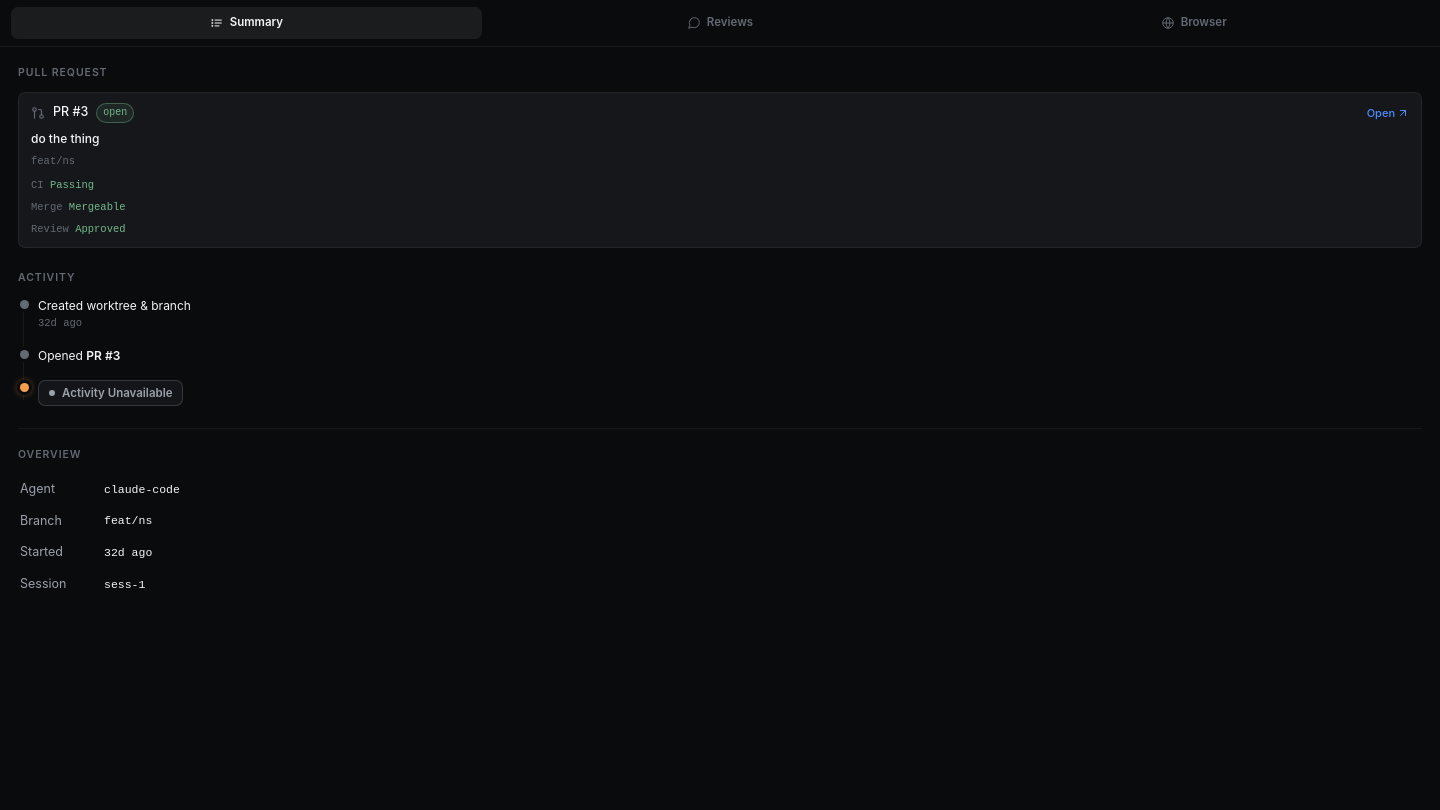
Scenario: SessionInspector reviews tab › shows a no-needed-reviews notice instead of opening the terminal when the backend reuses runs
Click the tab "Reviews" at (720, 23), box [485,7,955,39]
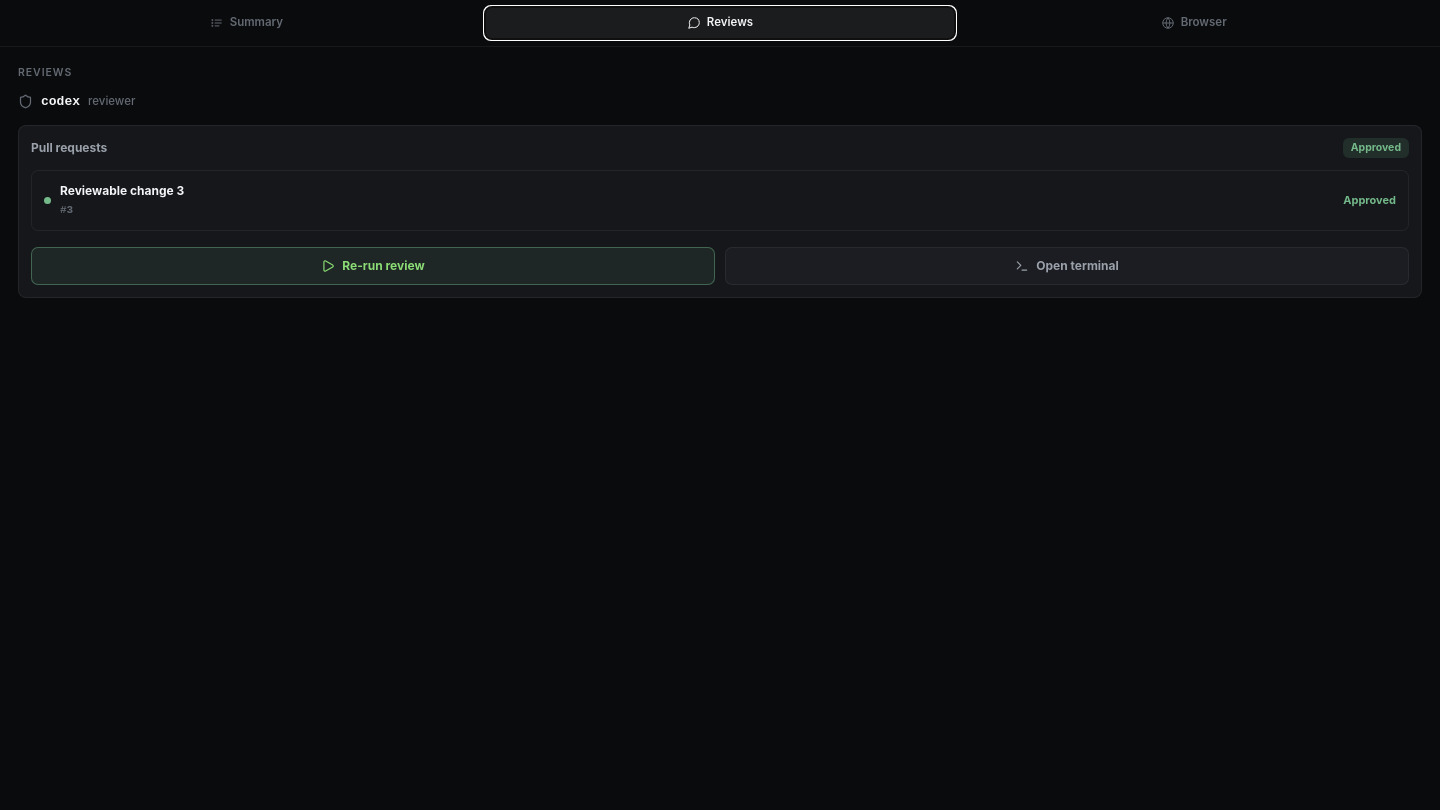
Click the button "Re-run review" at (373, 266), box [31,247,715,285]
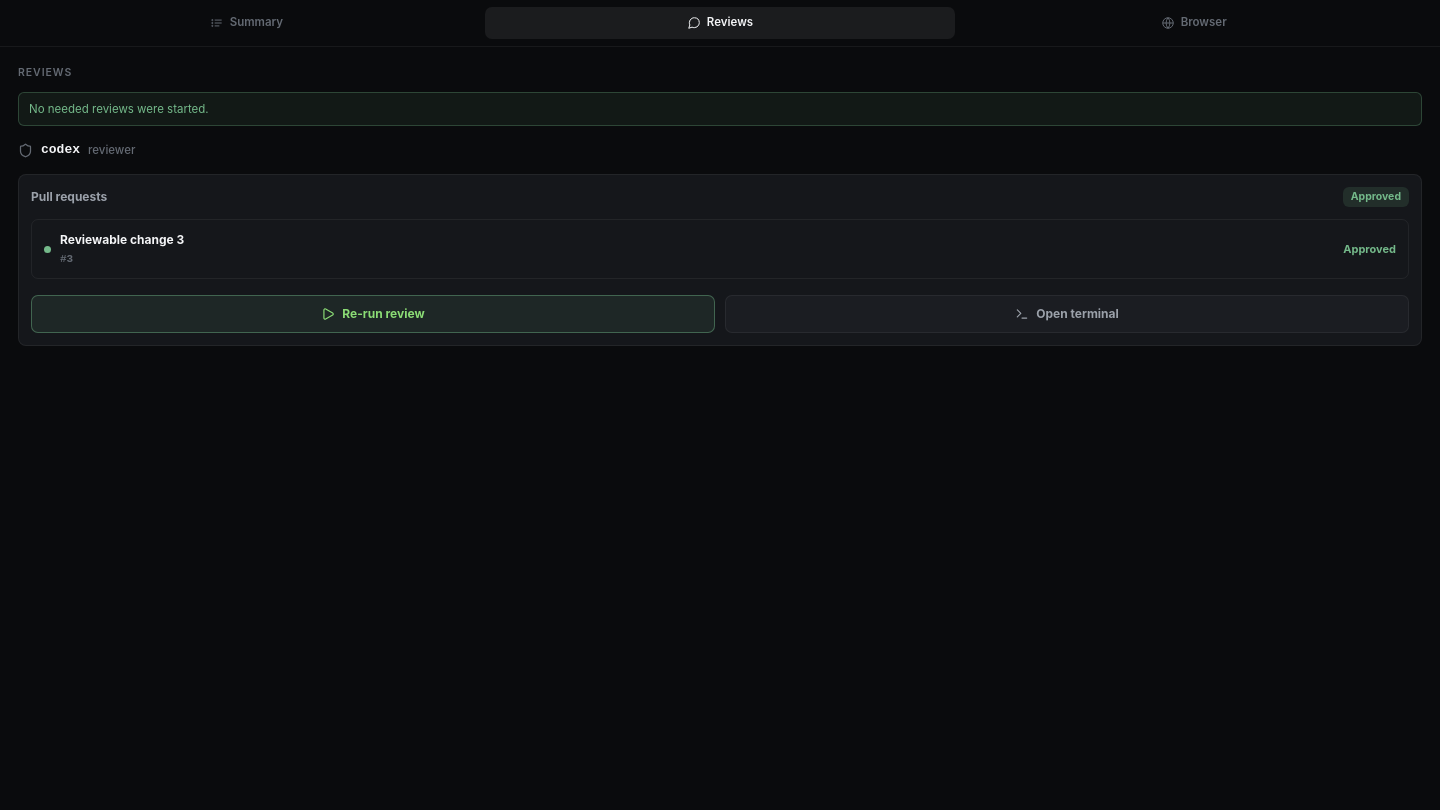
Result: the text "No needed reviews were started." is shown at [18,92,1422,126]
